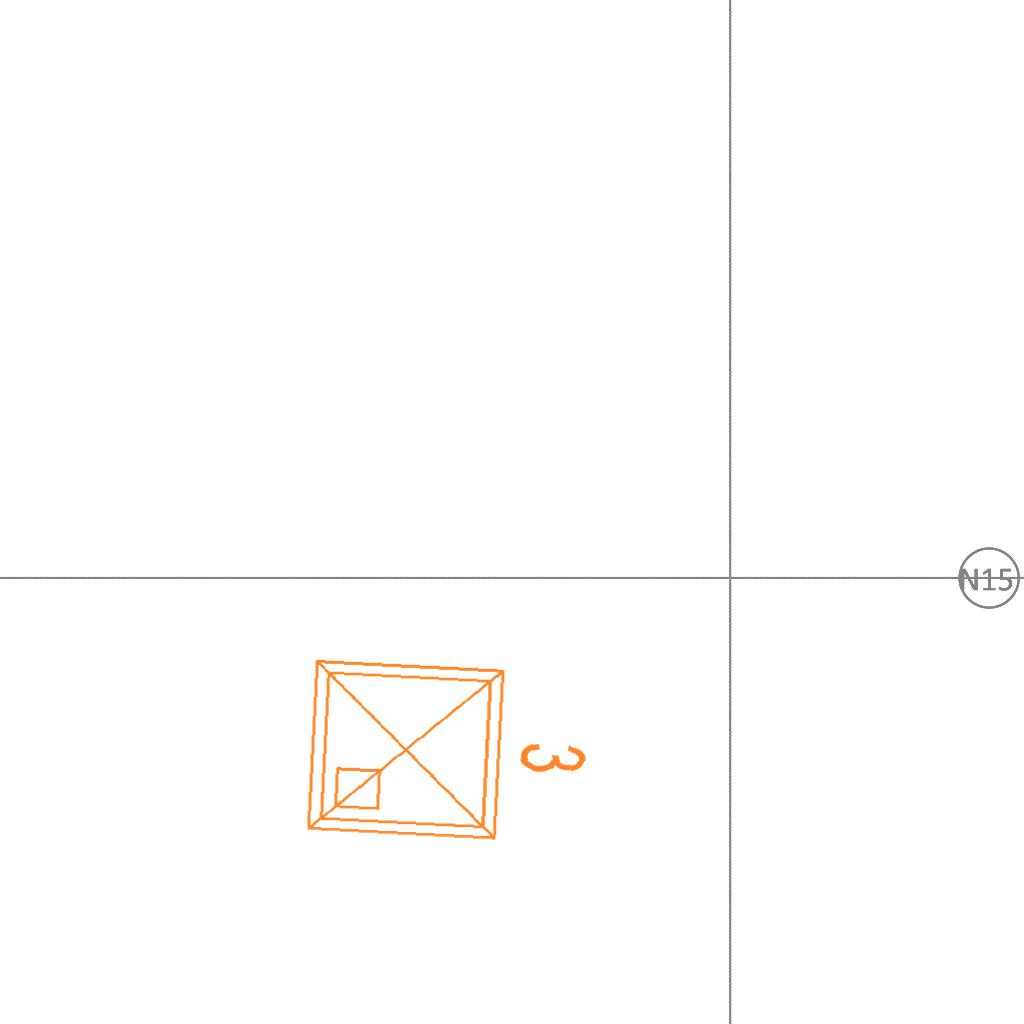Einbaudownlights_LED_Konferenzraeume: (291, 636, 603, 860)
